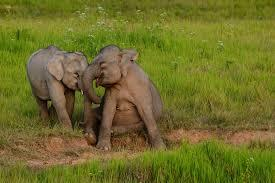elephant: (27, 45, 164, 149)
